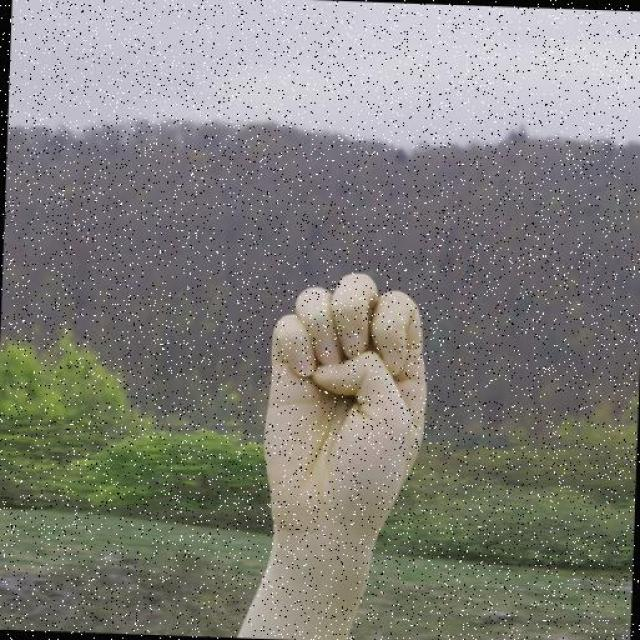E: (255, 263, 434, 541)
